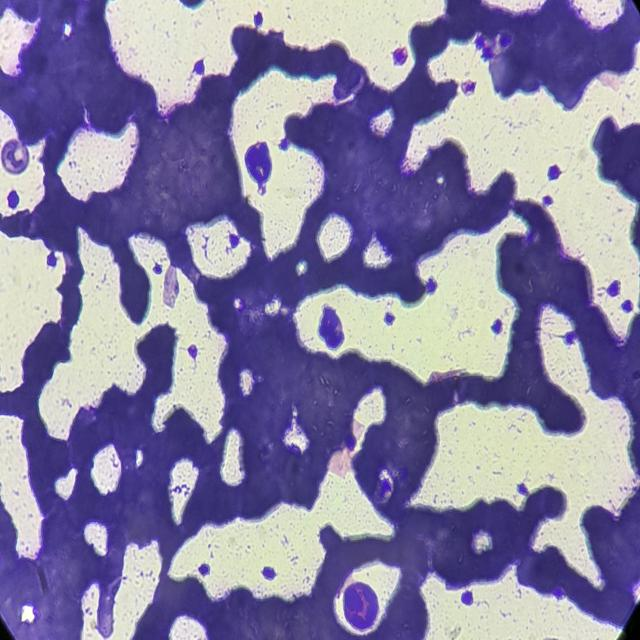Neutrofilo: (244, 139, 275, 188)
